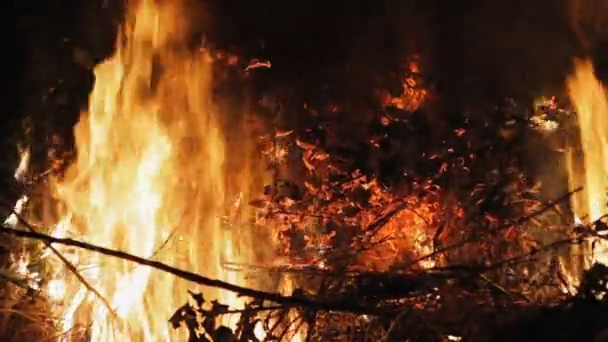fire: (39, 9, 247, 342), (568, 61, 608, 262), (389, 76, 422, 108), (284, 310, 307, 342)
